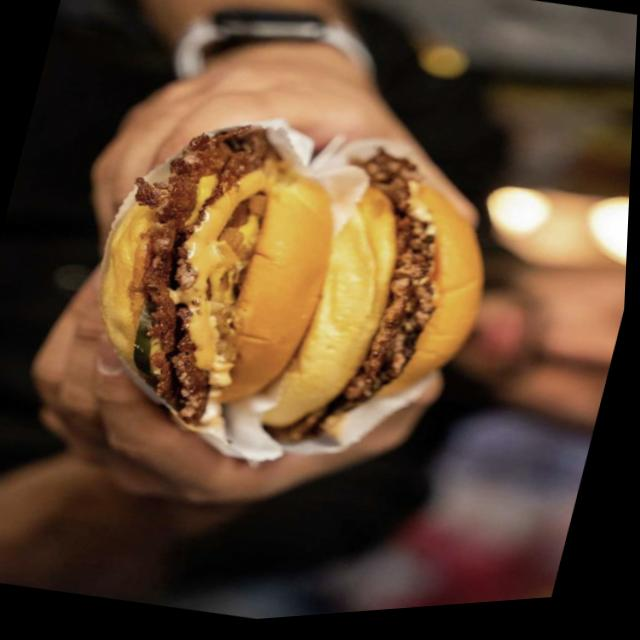burger: (68, 97, 367, 457), (254, 129, 523, 490)
